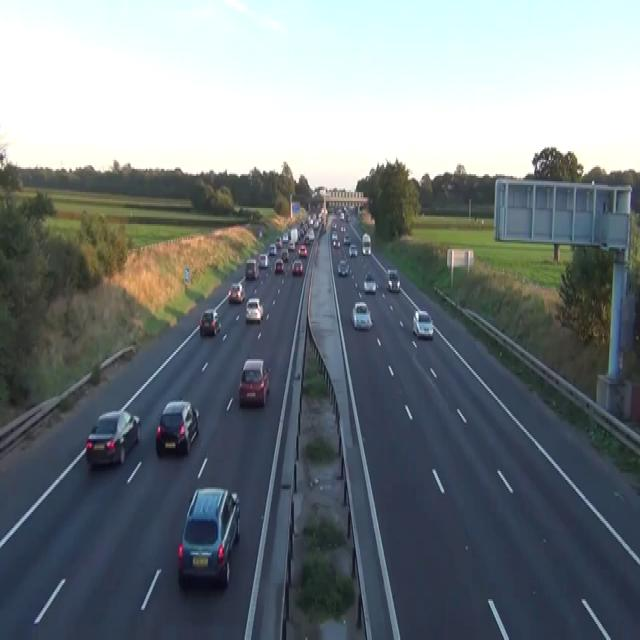Car: (177, 486, 240, 588), (85, 409, 141, 466), (155, 398, 199, 455), (238, 357, 269, 407), (412, 310, 433, 340), (199, 308, 221, 336), (351, 300, 372, 329), (245, 297, 263, 322), (227, 281, 245, 302), (387, 268, 400, 292), (245, 258, 259, 279), (363, 272, 376, 293), (291, 258, 303, 276), (337, 258, 348, 276), (274, 258, 283, 274), (331, 231, 340, 247), (258, 252, 268, 266), (304, 230, 314, 243), (348, 244, 358, 256), (298, 244, 307, 256), (268, 244, 277, 256), (331, 229, 338, 242), (282, 231, 289, 244), (362, 244, 371, 254), (287, 240, 295, 251), (281, 249, 288, 261), (332, 238, 340, 247), (343, 233, 350, 243), (275, 237, 282, 247), (331, 220, 337, 230), (343, 212, 349, 222), (340, 224, 346, 233), (322, 222, 326, 233), (340, 212, 344, 220), (259, 230, 262, 237)
Truck: (361, 233, 371, 254)
